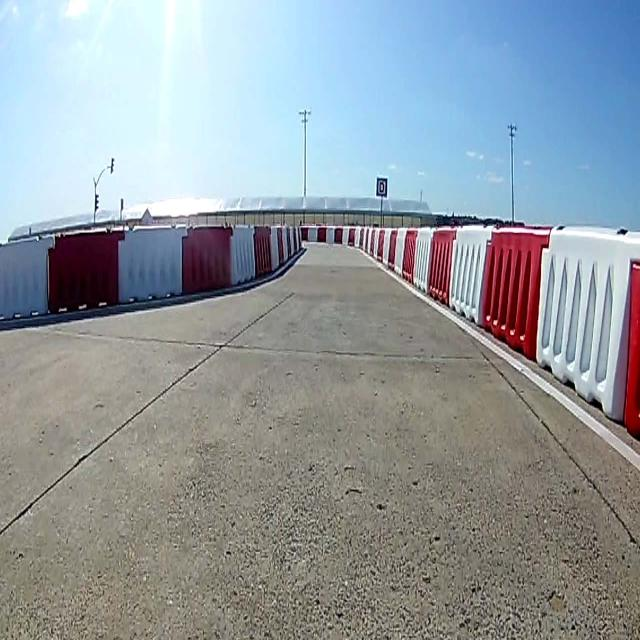durak: (378, 176, 388, 197)
